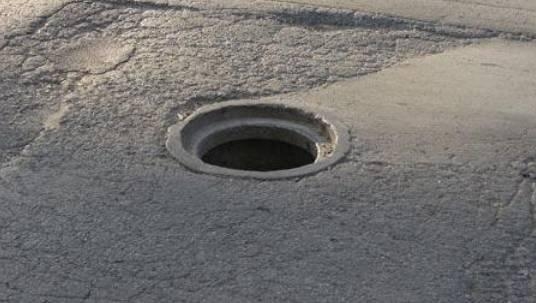wellcover: (167, 98, 355, 186)
